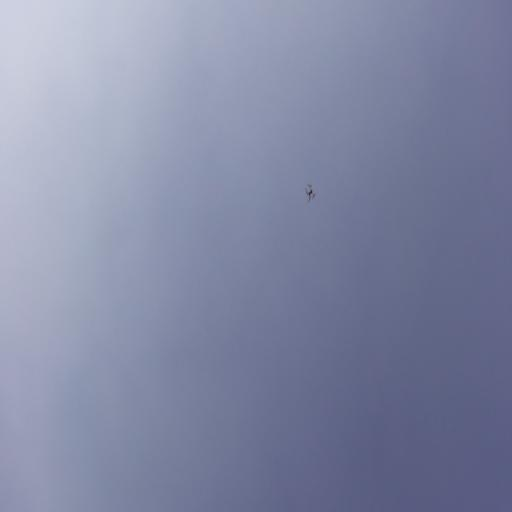drones: (305, 184, 316, 204)
